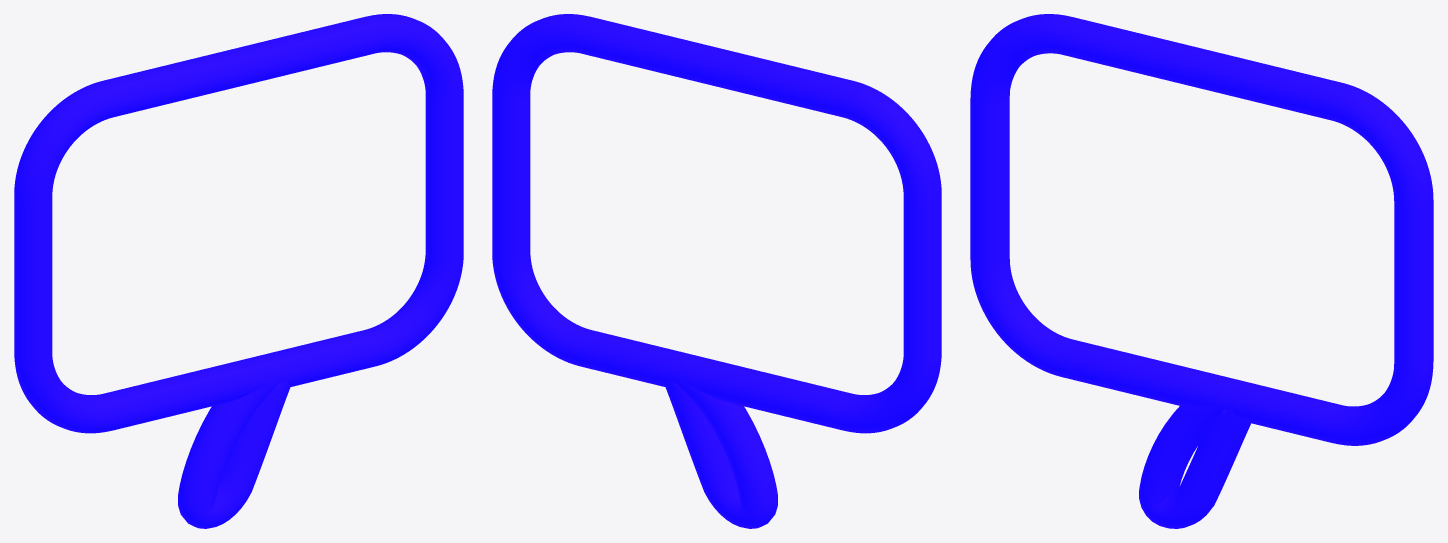
Rendered from messages.glb.
3 renders of one model, left to right at view 1: azimuth 30°, elevation 25°; view 2: azimuth 150°, elevation 25°; view 3: azimuth 330°, elevation 25°, orthographic. The views are drawn at different scales.
Visible parts, largest first — view 1: Curve; view 2: Curve; view 3: Curve.
Part boxes in pixels (bbox=[...]): Curve: bbox=[14, 14, 463, 528]; Curve: bbox=[492, 14, 941, 528]; Curve: bbox=[970, 14, 1433, 528].
Bounding box in the file's own units: 1.54 × 1.55 × 0.1148.
